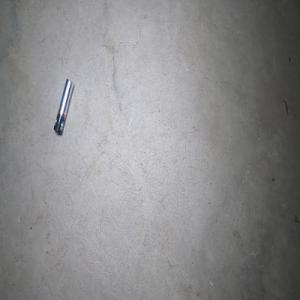Battery: (53, 78, 74, 136)
